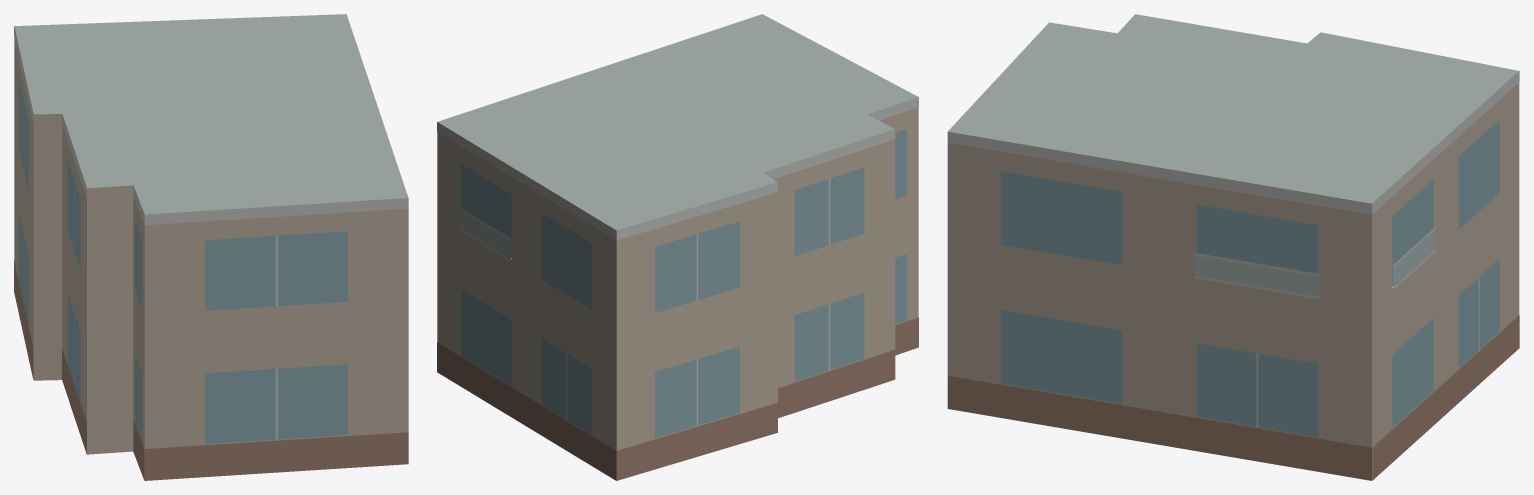
Rendered from survey-upis-32818282.glb.
The picture shows the model from 3 angles, left to right: view 1: azimuth 30°, elevation 25°; view 2: azimuth 150°, elevation 25°; view 3: azimuth 270°, elevation 25°; orthographic projection. The views are drawn at different scales.
Parts seen in each view (by area): view 1: survey-upis-32818282.tmp; view 2: survey-upis-32818282.tmp; view 3: survey-upis-32818282.tmp.
Part boxes in pixels (x1,y1,x2,y2): survey-upis-32818282.tmp: [14, 14, 408, 480]; survey-upis-32818282.tmp: [437, 14, 918, 480]; survey-upis-32818282.tmp: [947, 14, 1519, 480].
Bounding box in the file's own units: 8.96 × 6.1 × 11.42.
